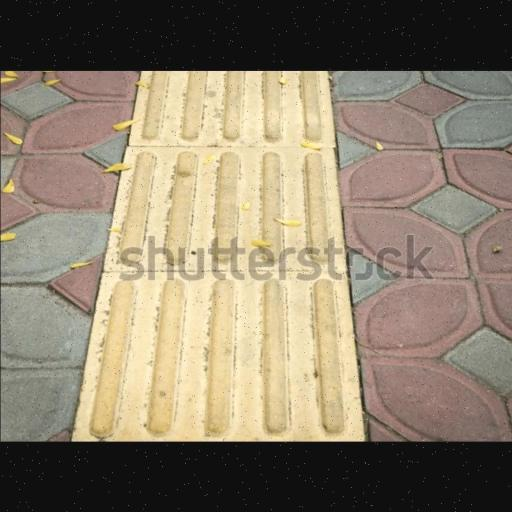line: (69, 272, 365, 443), (104, 146, 346, 271), (131, 70, 331, 147)
